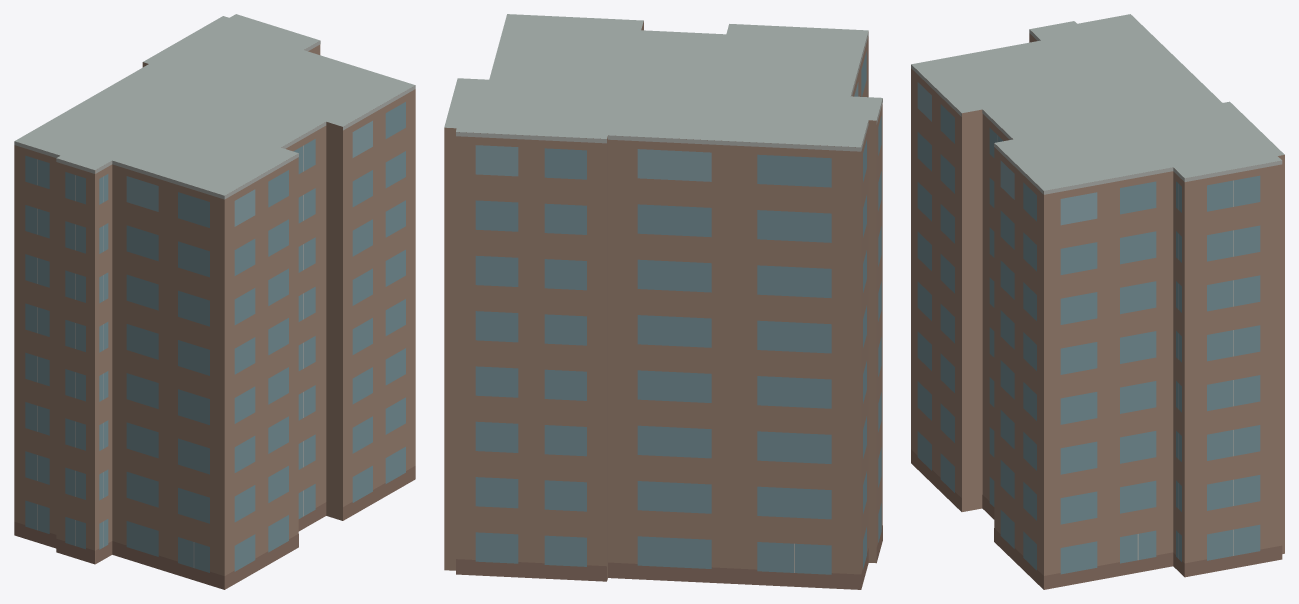
The model's file is survey-upis-32701729.glb.
The picture shows the model from 3 angles, left to right: view 1: azimuth 30°, elevation 25°; view 2: azimuth 150°, elevation 25°; view 3: azimuth 270°, elevation 25°; orthographic projection. The views are drawn at different scales.
Visible parts, largest first — view 1: survey-upis-32701729.tmp; view 2: survey-upis-32701729.tmp; view 3: survey-upis-32701729.tmp.
Boxes of the visible parts, <box> form: survey-upis-32701729.tmp: <box>14,14,415,589</box>; survey-upis-32701729.tmp: <box>444,14,882,589</box>; survey-upis-32701729.tmp: <box>911,14,1284,589</box>.
Bounding box in the file's own units: 23.89 × 25.1 × 21.32.
